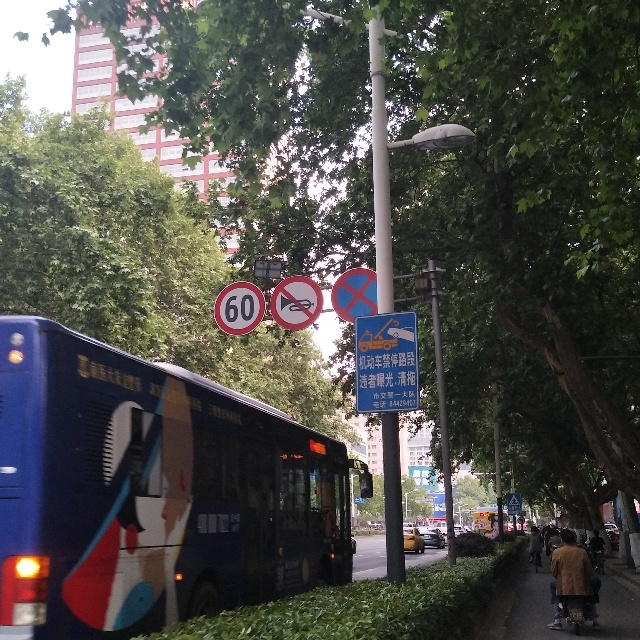nohonk: (276, 283, 314, 322)
stop: (334, 271, 383, 321)
